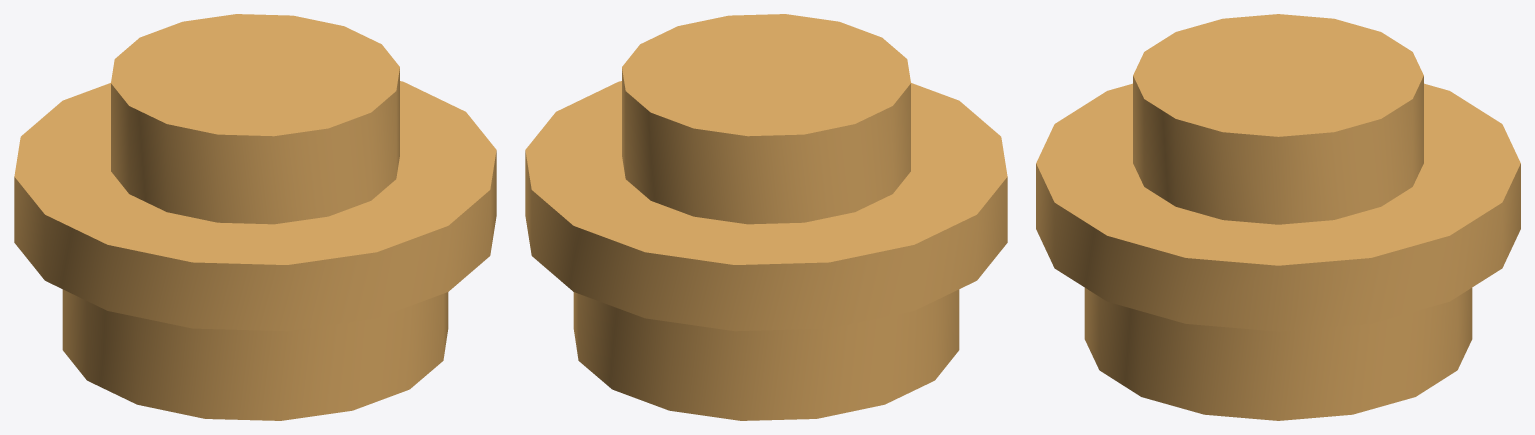
The model's file is Orange_Stud_Final.fbx.
3 renders of one model, left to right at view 1: azimuth 30°, elevation 25°; view 2: azimuth 150°, elevation 25°; view 3: azimuth 270°, elevation 25°, orthographic.
Visible parts, largest first — view 1: Orange_Stud; view 2: Orange_Stud; view 3: Orange_Stud.
Part boxes in pixels (x1,y1,x2,y2): Orange_Stud: (14,14,496,420); Orange_Stud: (525,14,1007,420); Orange_Stud: (1036,14,1520,420).
Size of the model in its own units: 200 by 120 by 200.
